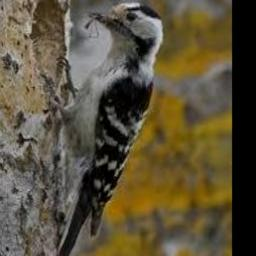Woodpecker: (57, 1, 164, 256)
